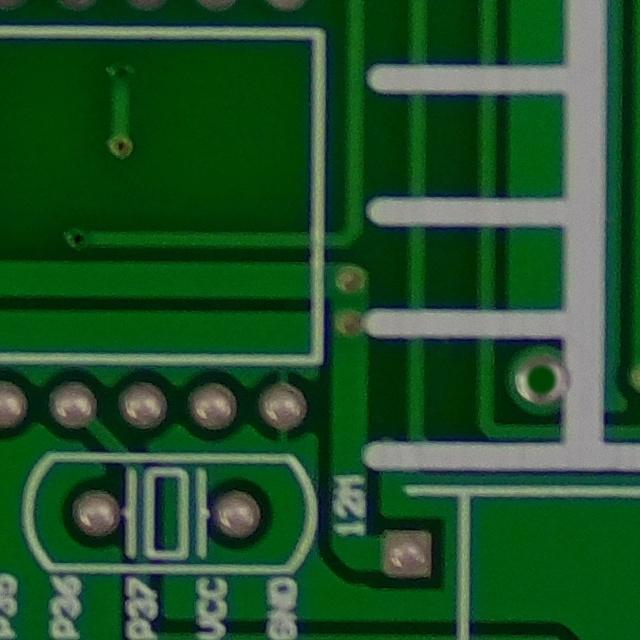missing_hole: (503, 345, 572, 417)
